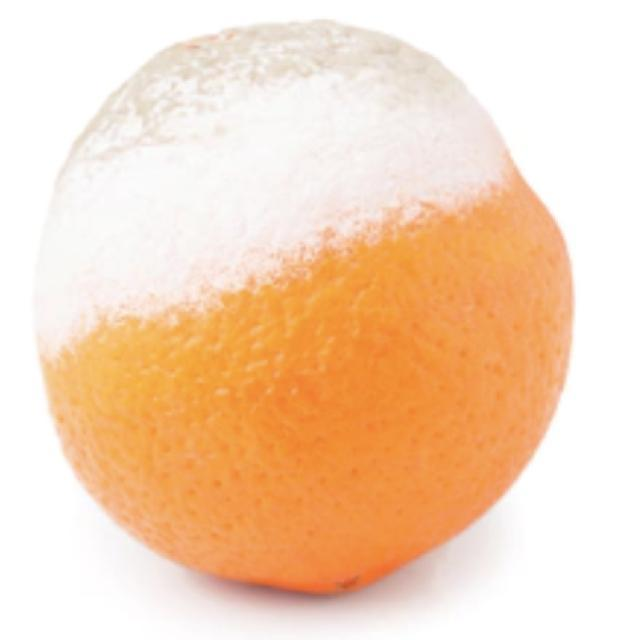sangat-busuk: (36, 20, 508, 345)
